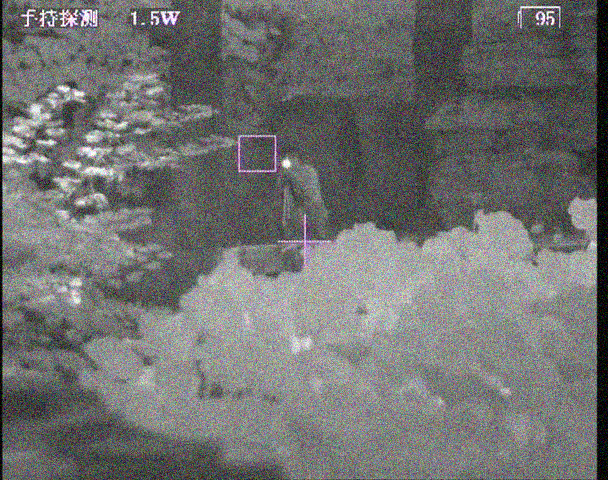my: (280, 158, 294, 170)
